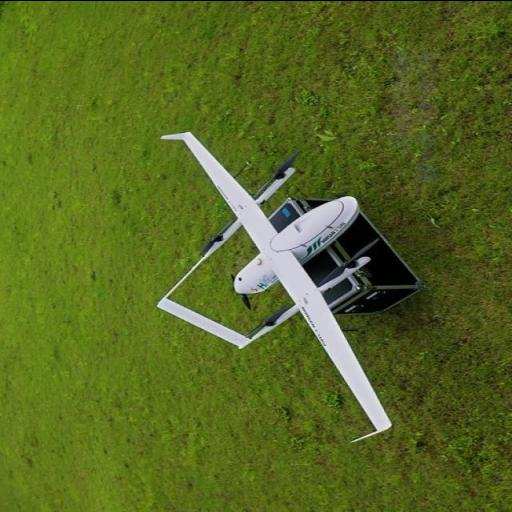uav: (144, 124, 374, 454)
